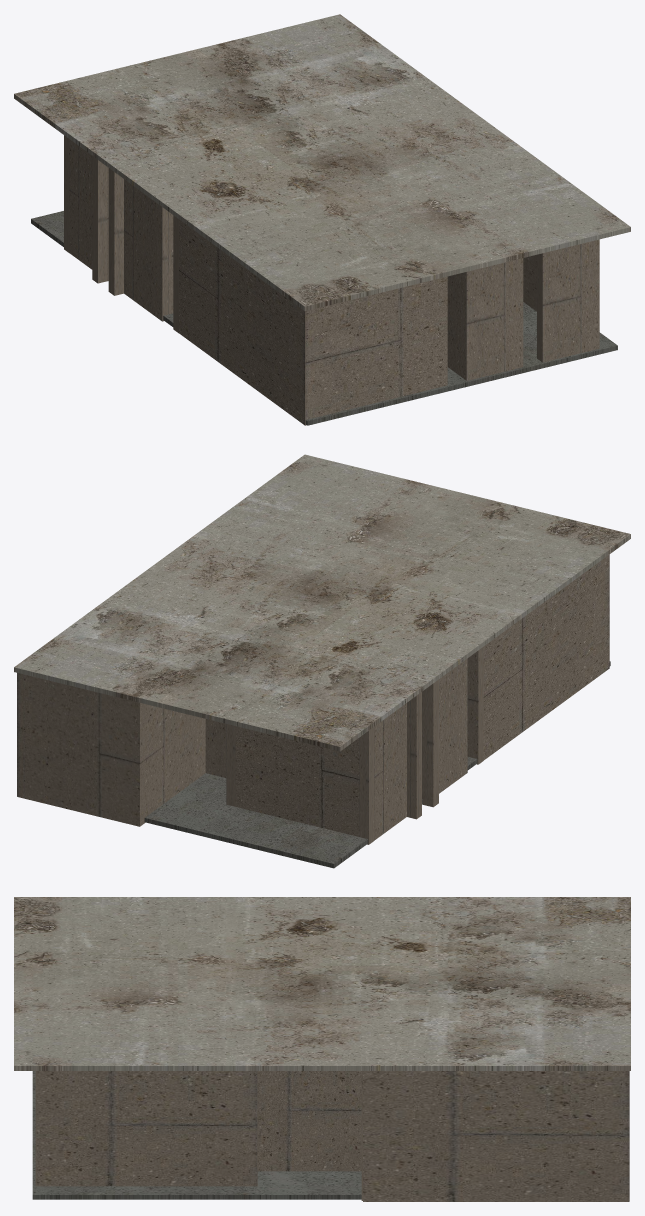
Rendered from area1.dae.
3 renders of one model, top to bottom at view 1: azimuth 30°, elevation 25°; view 2: azimuth 150°, elevation 25°; view 3: azimuth 270°, elevation 25°, orthographic. The views are drawn at different scales.
Parts seen in each view (by area): view 1: l1p1; view 2: l1p1; view 3: l1p1.
Part boxes in pixels (x1,y1,x2,y2): l1p1: (14,14,630,425); l1p1: (14,454,630,868); l1p1: (14,897,630,1201).
Bounding box in the file's own units: 154 × 238 × 58.36.
28 materials, 12 textured.
